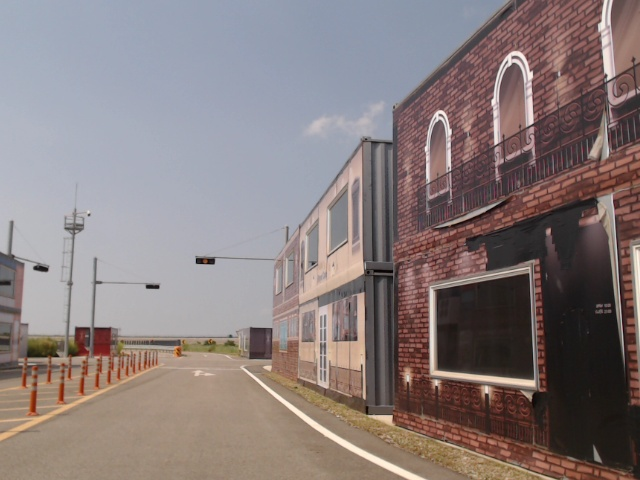orange_3: (196, 255, 217, 266)
